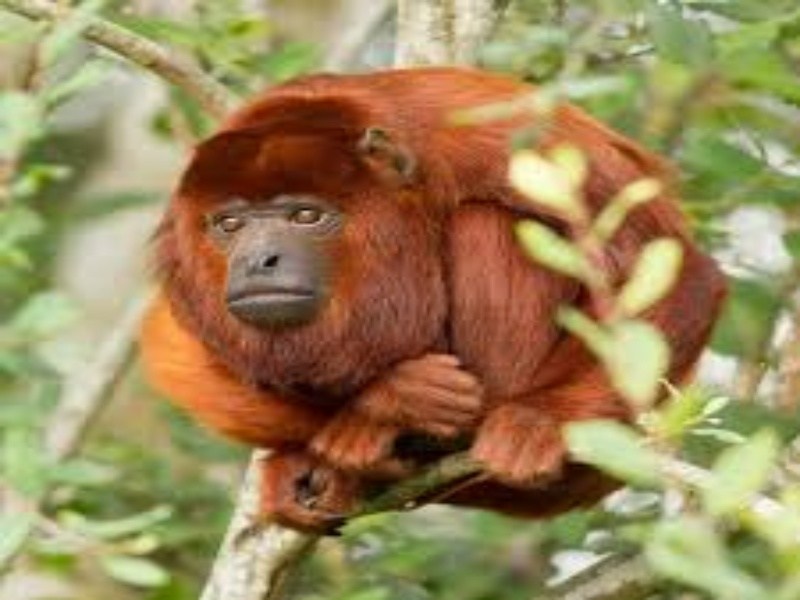monkey: (106, 58, 739, 511)
